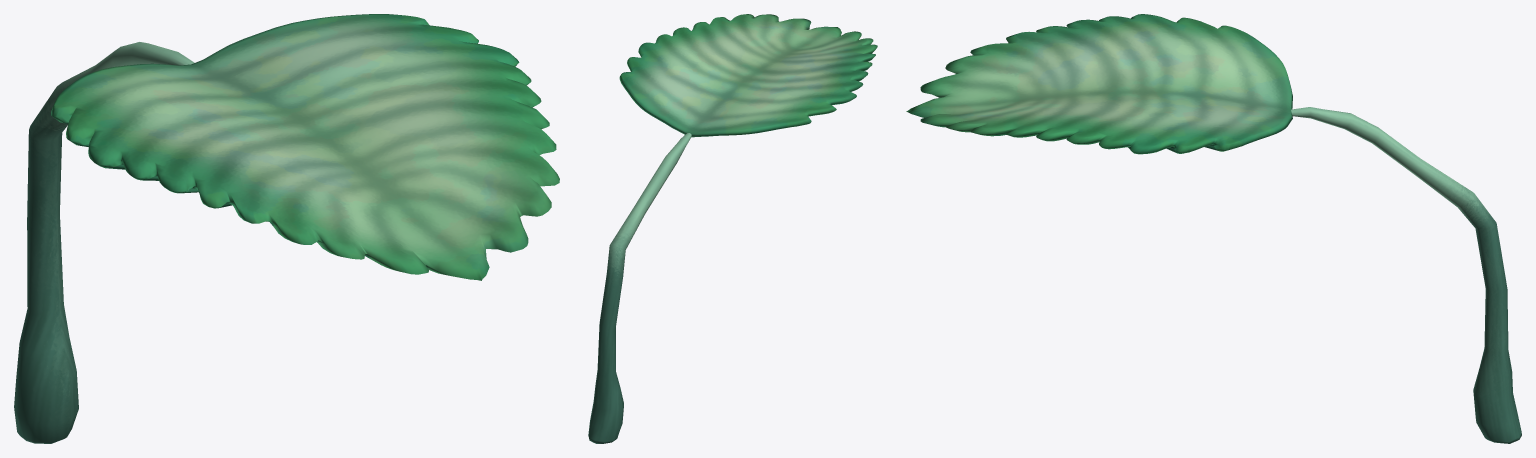
File: jumpable_leaf (1).fbx
The picture shows the model from 3 angles, left to right: view 1: azimuth 30°, elevation 25°; view 2: azimuth 150°, elevation 25°; view 3: azimuth 270°, elevation 25°; orthographic projection. The views are drawn at different scales.
Parts seen in each view (by area): view 1: leaf, stem; view 2: leaf, stem; view 3: leaf, stem.
Boxes of the visible parts, x1,y1,x2,y2 form: leaf: (51, 14, 559, 280); stem: (14, 42, 194, 443); leaf: (619, 14, 877, 137); stem: (588, 133, 691, 443); leaf: (906, 14, 1292, 154); stem: (1291, 107, 1521, 443).
Bounding box in the file's own units: 2.54 × 3.08 × 4.83.
1 material, 1 textured.
